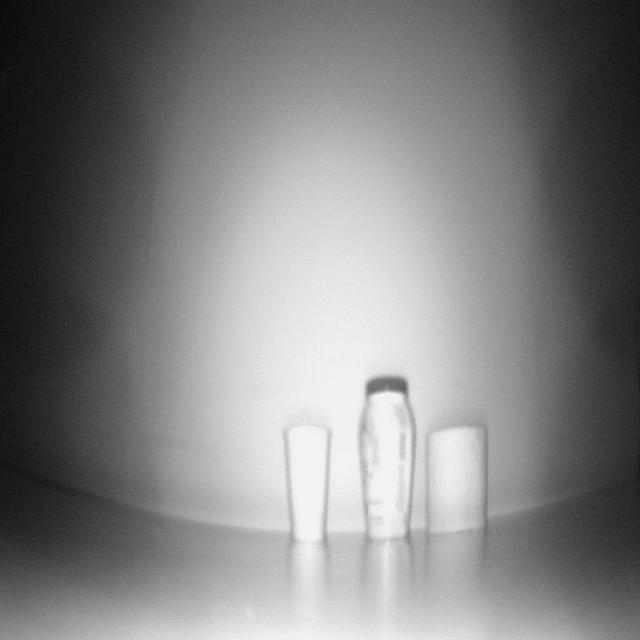targets: (358, 377, 416, 542), (426, 419, 490, 533), (284, 420, 336, 550)
